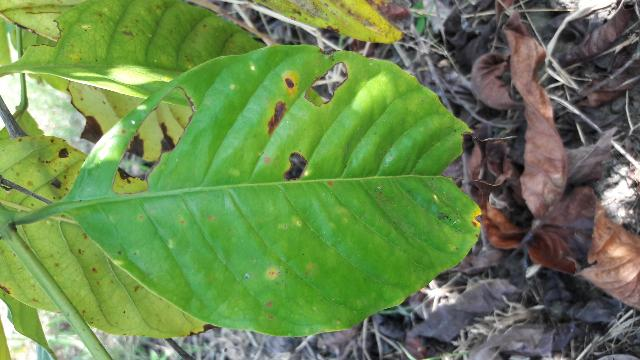rust_level_2: (62, 45, 482, 338)
